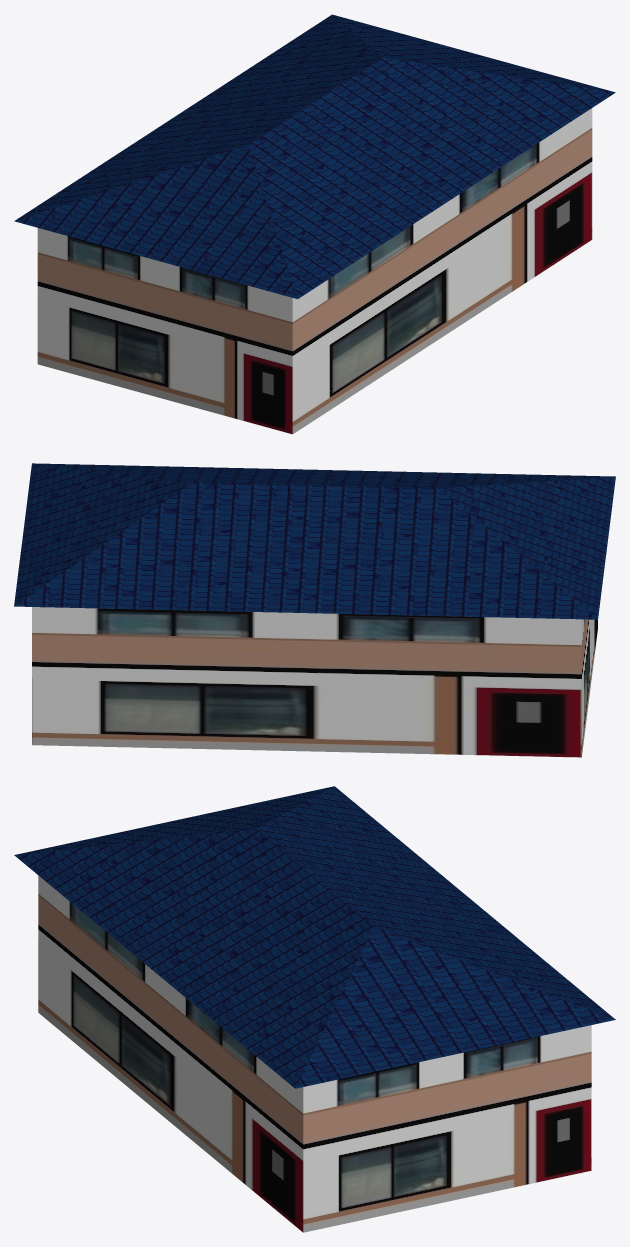
3 renders of one model, top to bottom at view 1: azimuth 30°, elevation 25°; view 2: azimuth 150°, elevation 25°; view 3: azimuth 270°, elevation 25°, orthographic. The views are drawn at different scales.
Parts seen in each view (by area): view 1: CityEngineMaterial_6_m, CityEngineMaterial_5_m; view 2: CityEngineMaterial_6_m, CityEngineMaterial_5_m; view 3: CityEngineMaterial_6_m, CityEngineMaterial_5_m.
Boxes of the visible parts, box(x1,y1,x2,y2) form: CityEngineMaterial_6_m: box(14, 14, 615, 299); CityEngineMaterial_5_m: box(37, 108, 592, 434); CityEngineMaterial_6_m: box(14, 463, 615, 619); CityEngineMaterial_5_m: box(32, 607, 597, 757); CityEngineMaterial_6_m: box(14, 786, 615, 1088); CityEngineMaterial_5_m: box(38, 875, 591, 1232).
Bounding box in the file's own units: 37.01 × 12.19 × 31.11.
